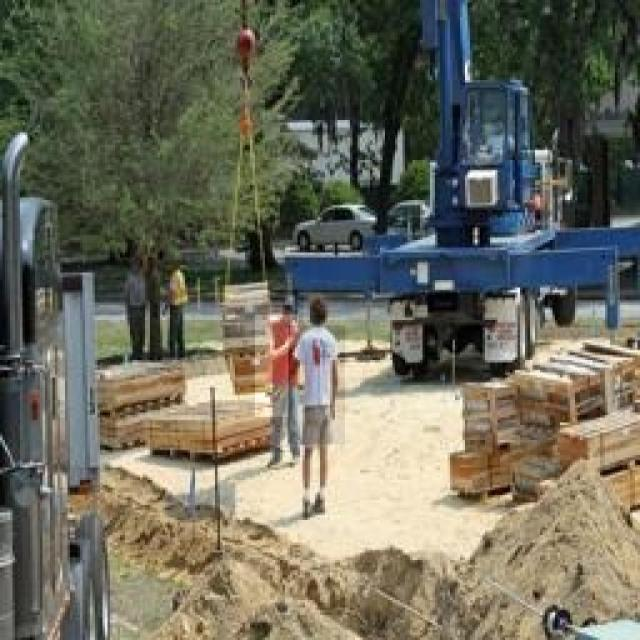Helmet: (289, 326, 345, 444), (255, 315, 299, 417), (300, 295, 345, 340), (272, 290, 304, 332)
